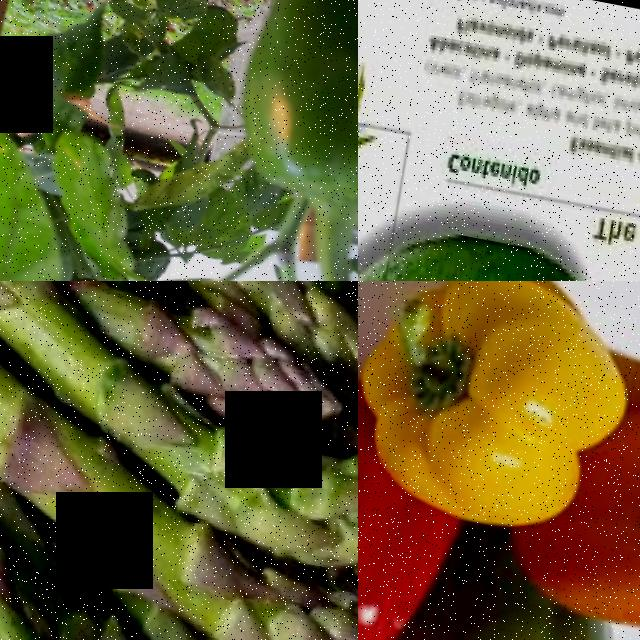asparagus: (0, 281, 358, 640)
avocado: (358, 195, 639, 281)
bell pepper: (365, 281, 613, 513), (226, 0, 358, 228), (553, 421, 640, 640), (373, 590, 627, 640), (358, 458, 423, 640)
